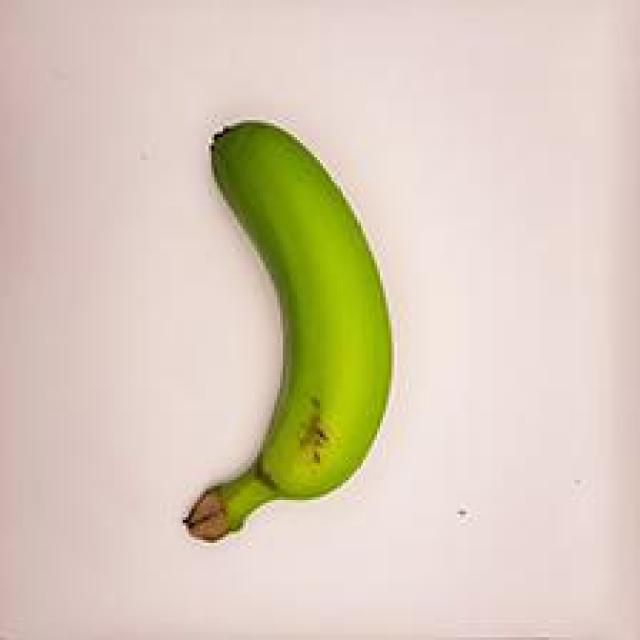raw: (175, 97, 403, 548)
